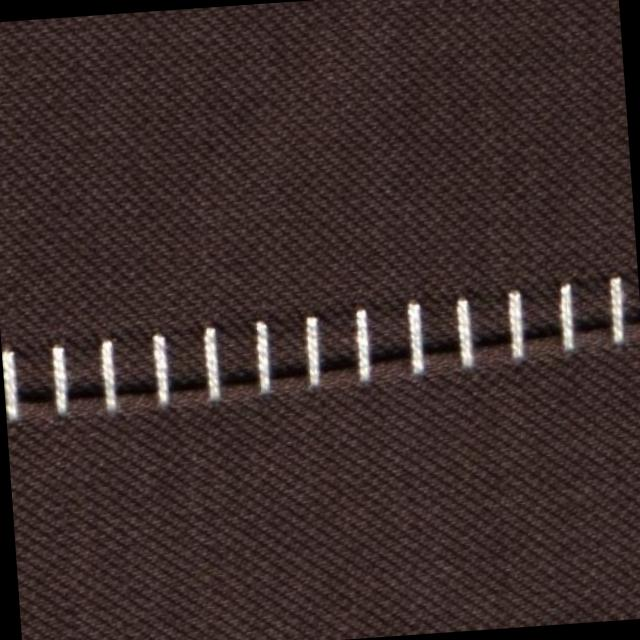gray stitch: (0, 262, 637, 426)
